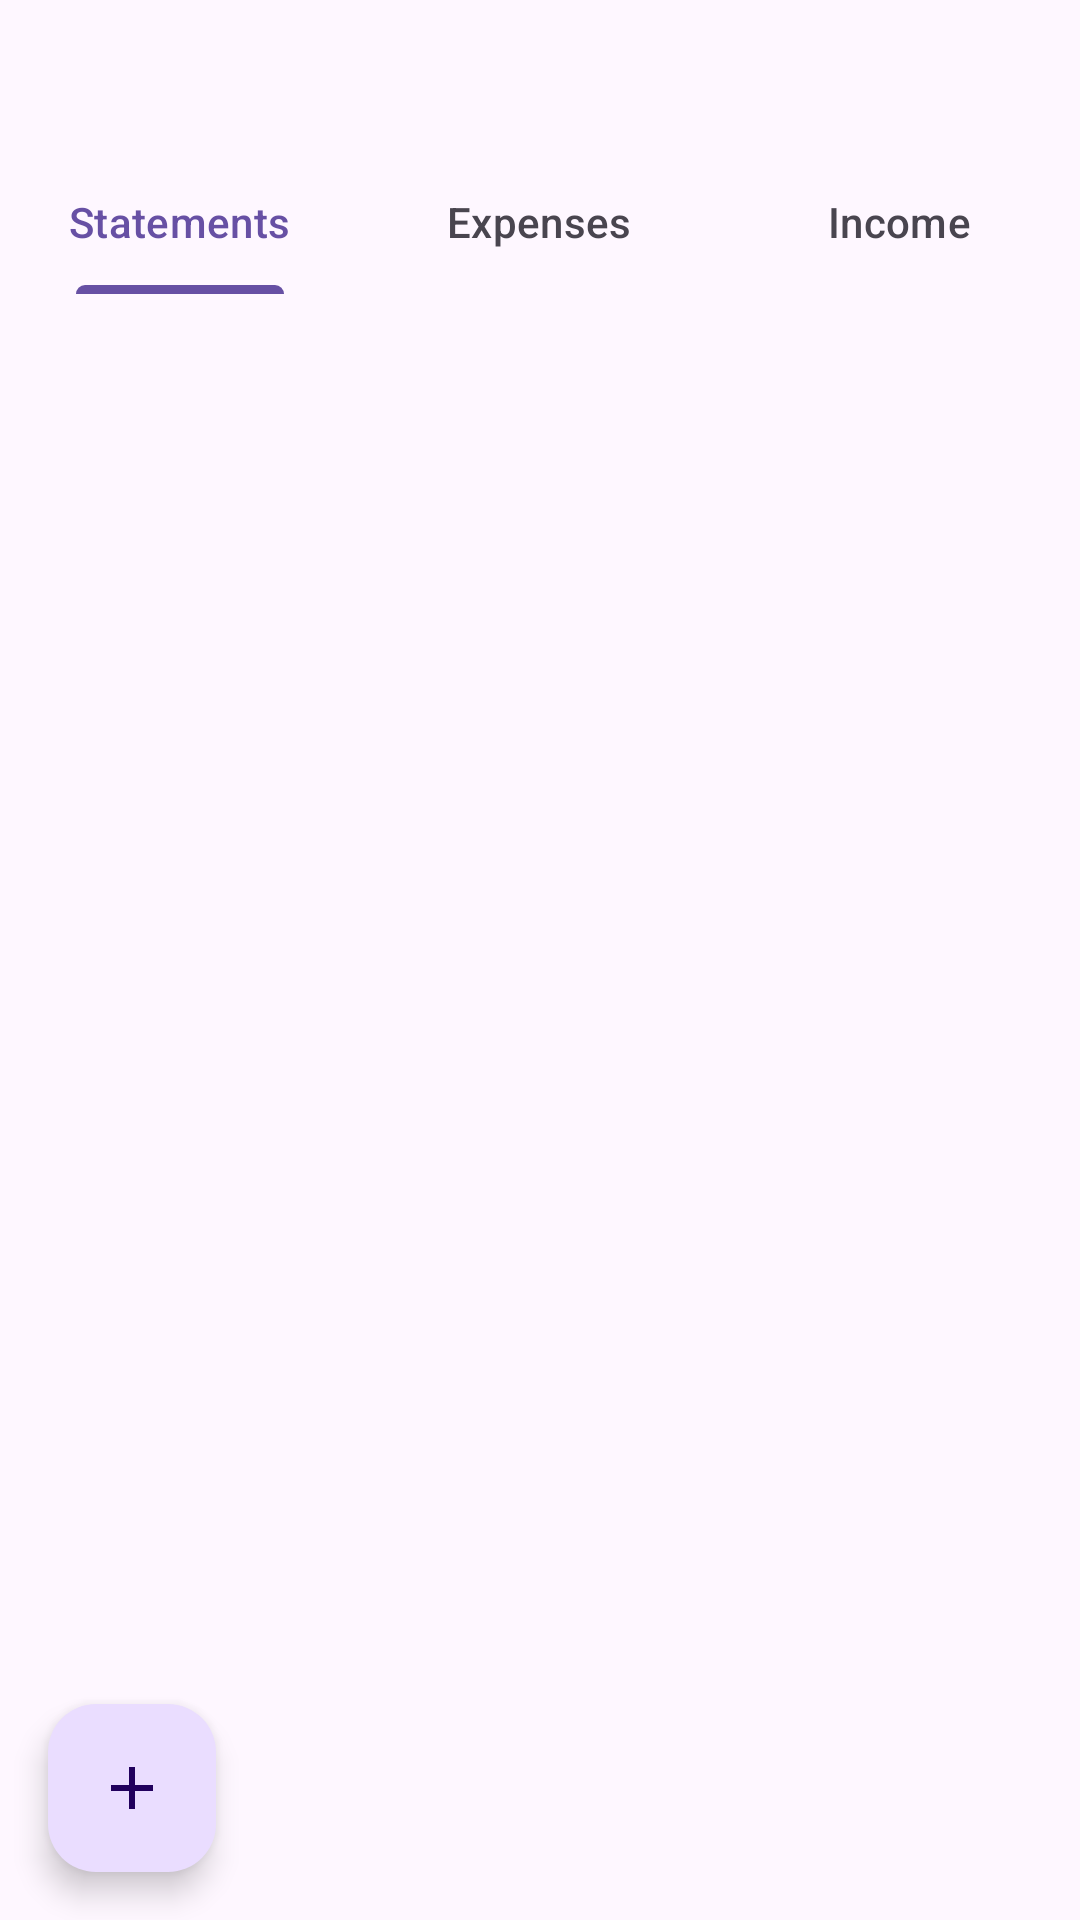

Where to tap for icons on this 1080 × 1920 app screen, as point (x, y):
add: point (132, 1788)
